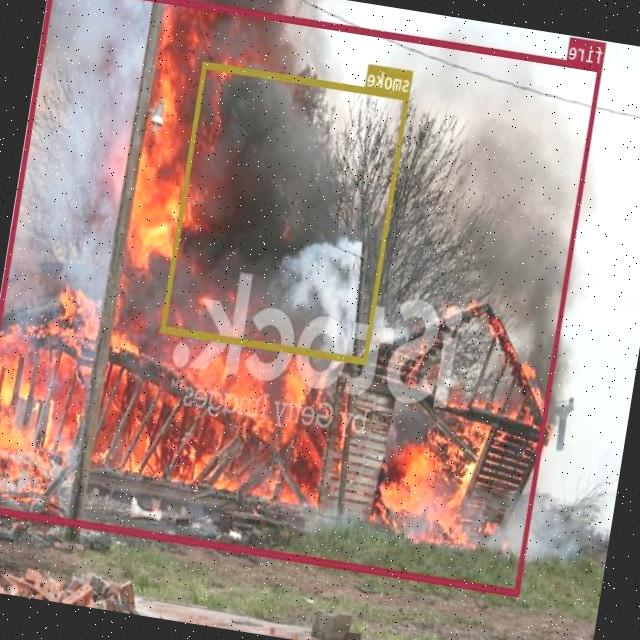fire: (0, 0, 603, 595)
smoke: (162, 62, 410, 364)
